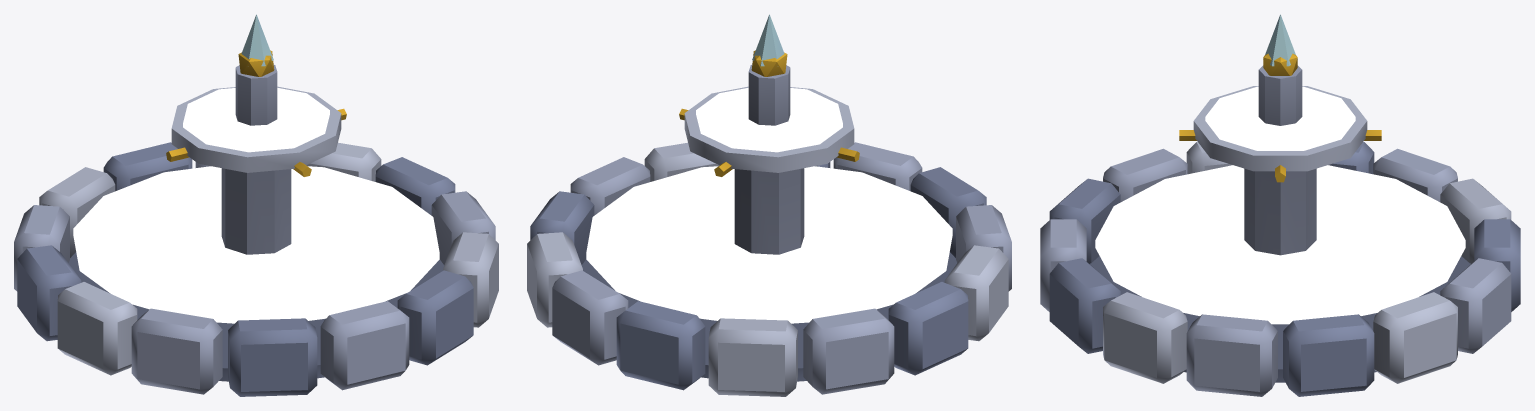
Rendered from b_brunnen.glb.
3 views of the same model, side by side, from view 1: azimuth 30°, elevation 25°; view 2: azimuth 150°, elevation 25°; view 3: azimuth 270°, elevation 25° (orthographic).
Parts seen in each view (by area): view 1: body, water_glow, pulse_jet; view 2: body, water_glow, pulse_jet; view 3: body, water_glow, pulse_jet.
Part boxes in pixels (x1=…): body: x1=14, y1=50, x2=498, y2=396; water_glow: x1=73, y1=87, x2=439, y2=323; pulse_jet: x1=241, y1=14, x2=273, y2=66; body: x1=527, y1=50, x2=1011, y2=396; water_glow: x1=586, y1=87, x2=952, y2=323; pulse_jet: x1=752, y1=14, x2=784, y2=66; body: x1=1040, y1=53, x2=1520, y2=396; water_glow: x1=1095, y1=86, x2=1465, y2=324; pulse_jet: x1=1265, y1=14, x2=1295, y2=66.
Bounding box in the file's own units: 3.34 × 2.17 × 3.32.
